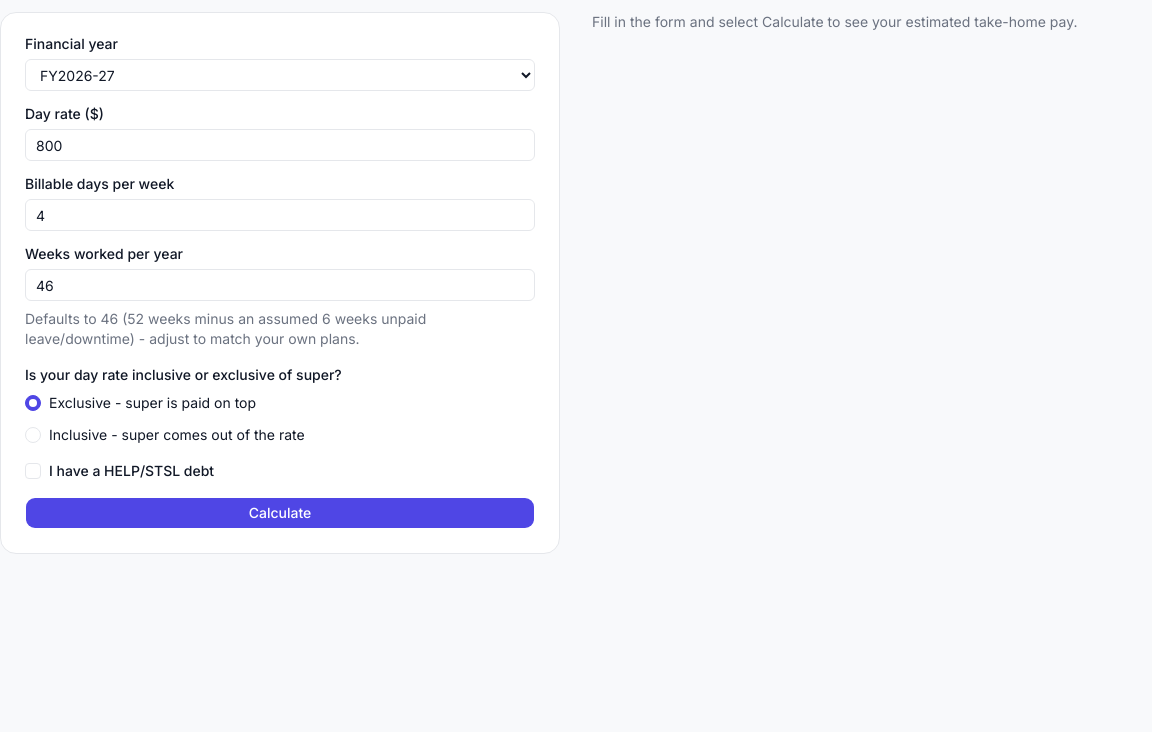
Scenario: ContractorTakeHomeCalculator › rejects a zero day rate
This screenshot has width=1152, height=732.
Replace the text in the number field labelled "Day rate ($)" with "0": x=280, y=145 x1=25 y1=129 x2=535 y2=161
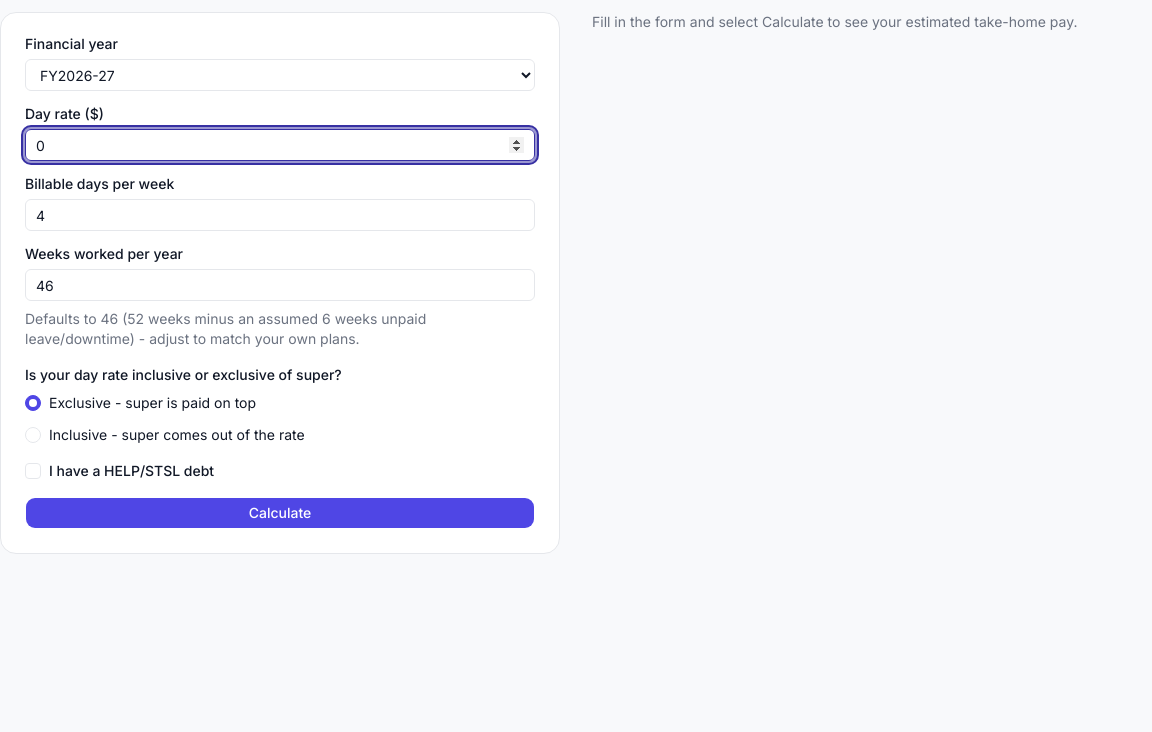
Click the button "Calculate": x=280, y=513 x1=25 y1=497 x2=535 y2=529
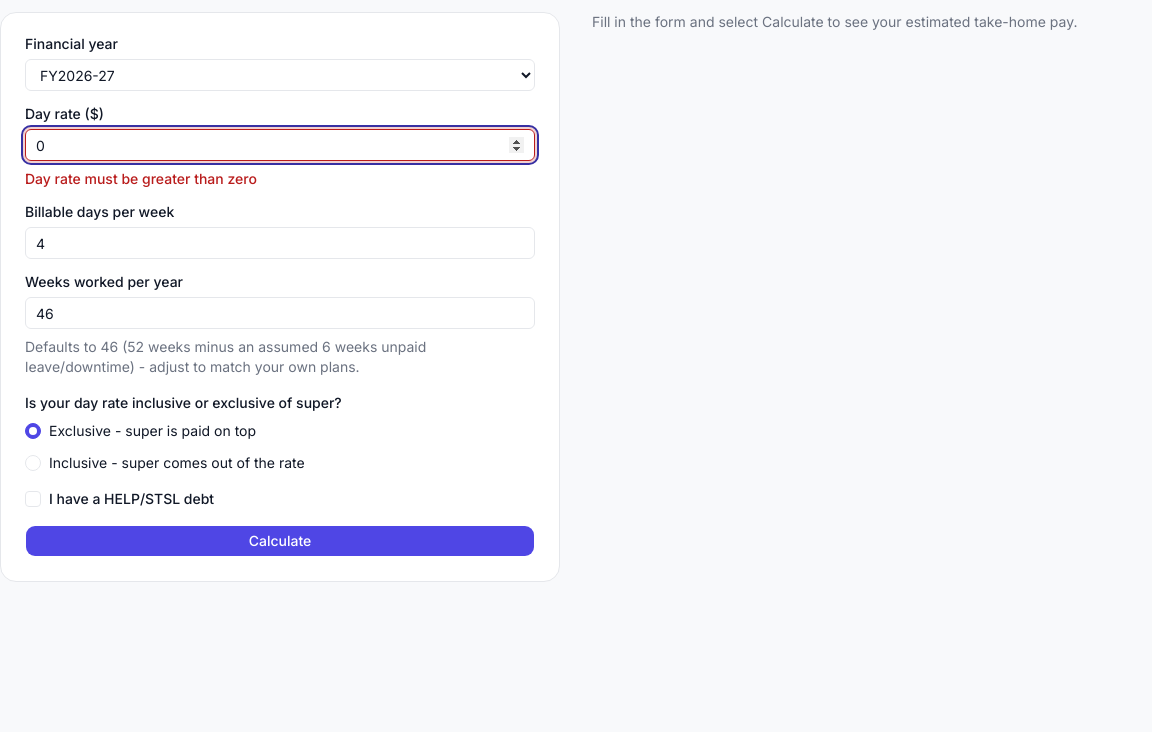
expect the message shows "greater than zero": met, box x1=25 y1=170 x2=257 y2=187
